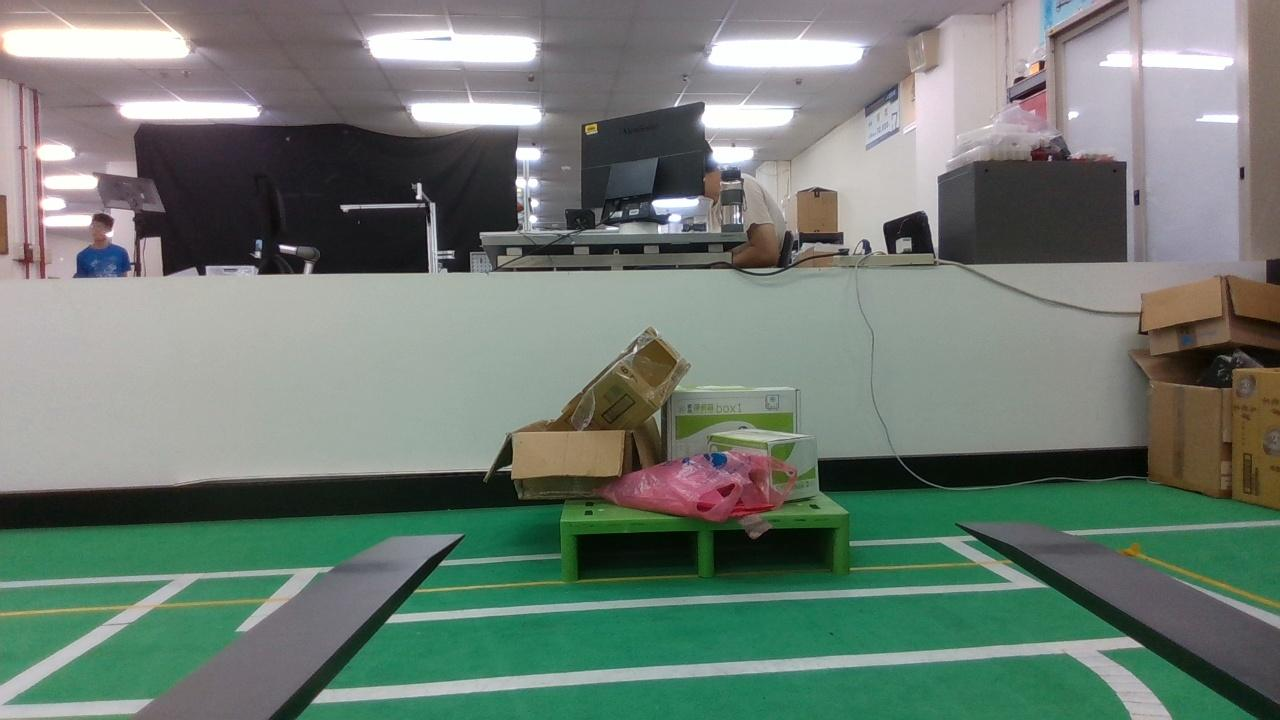Pallet: (559, 512, 849, 581)
